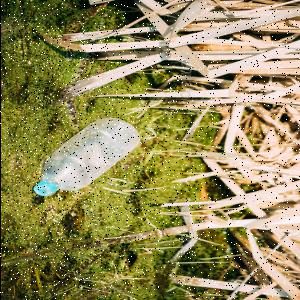Plastic-bottle: (33, 118, 142, 199)
